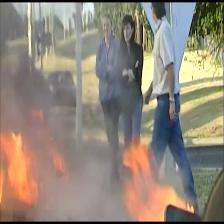fire: (122, 141, 194, 220), (0, 132, 40, 209)
